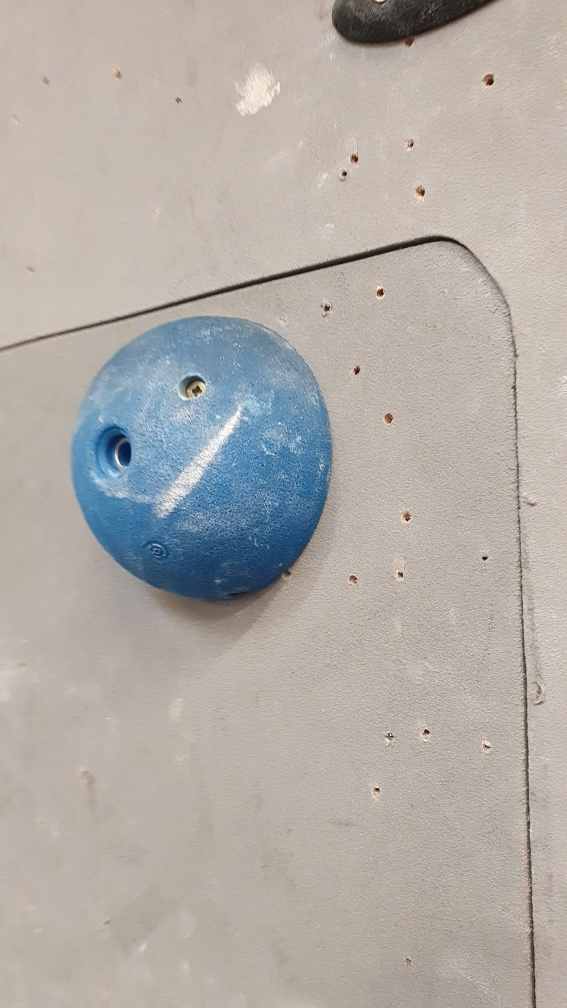Sloper: (65, 313, 340, 610)
